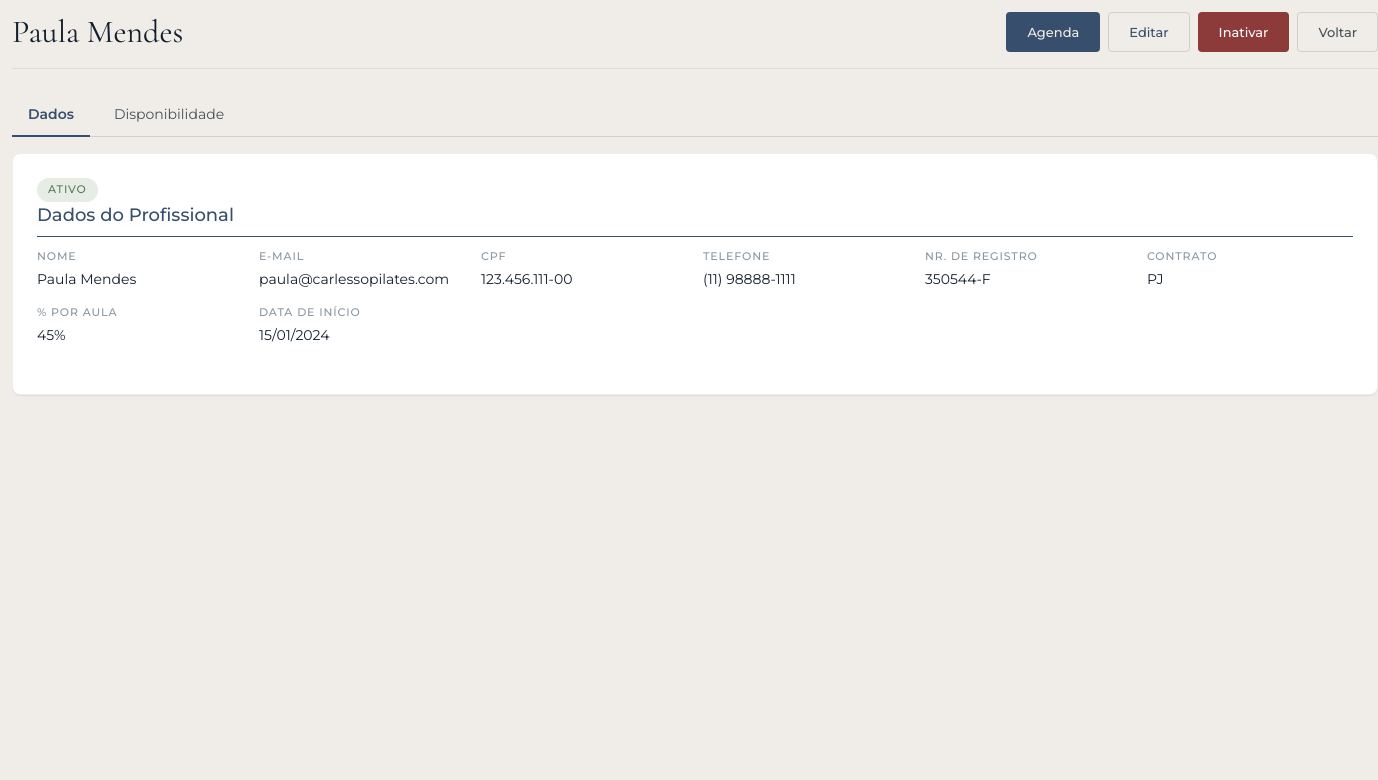
Test: ProfissionalDetailComponent › abas › should show the weekly availability of the professional when its tab is clicked
Click the tab "Disponibilidade".
click(169, 115)  # box 98,93 -> 240,137
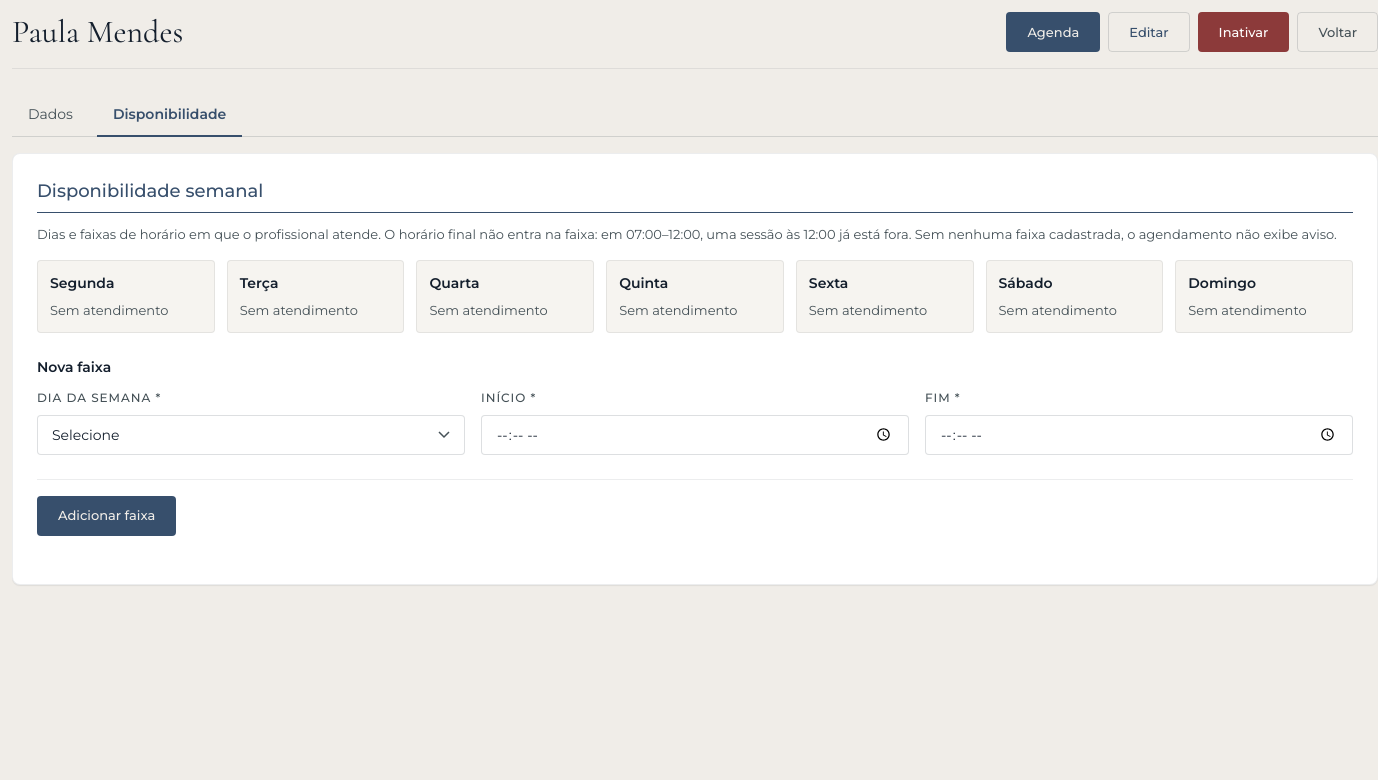
Expected: the panel is gone
Expected: the element that starts with "Disponibilidade semanal" is shown, 37,178 -> 1353,536
